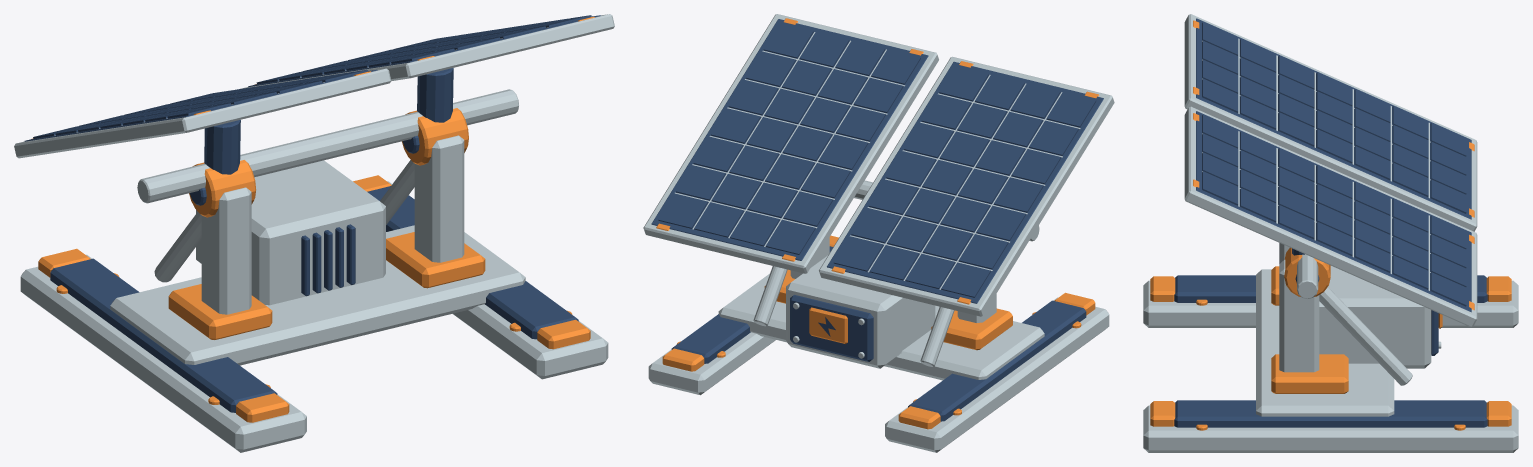
Rendered from facility_generator.glb.
The picture shows the model from 3 angles, left to right: view 1: azimuth 30°, elevation 25°; view 2: azimuth 150°, elevation 25°; view 3: azimuth 270°, elevation 25°; orthographic projection. The views are drawn at different scales.
Visible parts, largest first — view 1: facility_generator; view 2: facility_generator; view 3: facility_generator.
Part boxes in pixels (<box>): facility_generator: <box>14,14,614,452</box>; facility_generator: <box>643,14,1114,452</box>; facility_generator: <box>1143,14,1518,452</box>.
Size of the model in its own units: 3.6 by 2.59 by 3.2.
